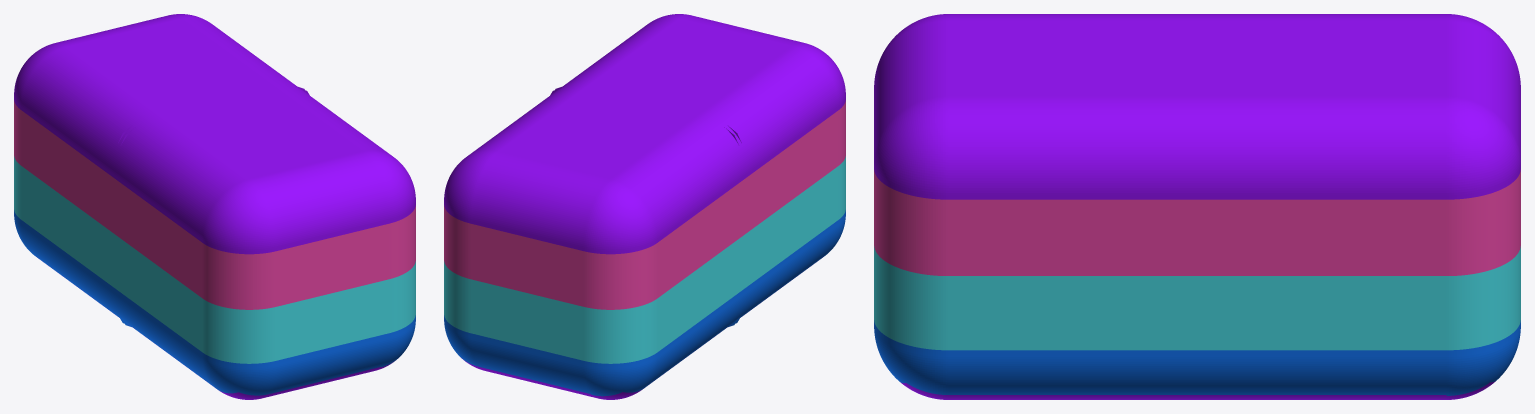
Rendered from cake1.fbx.
The picture shows the model from 3 angles, left to right: view 1: azimuth 30°, elevation 25°; view 2: azimuth 150°, elevation 25°; view 3: azimuth 270°, elevation 25°; orthographic projection. The views are drawn at different scales.
Parts seen in each view (by area): view 1: Cube.171, Cube.175; view 2: Cube.175, Cube.171; view 3: Cube.175, Cube.171.
Part boxes in pixels (x1,y1,x2,y2): Cube.171: (110, 85, 415, 399); Cube.175: (14, 14, 309, 326); Cube.175: (444, 83, 749, 399); Cube.171: (550, 14, 845, 326); Cube.175: (1193, 14, 1520, 399); Cube.171: (874, 14, 1201, 399).
Size of the model in its own units: 383 by 383 by 757.
